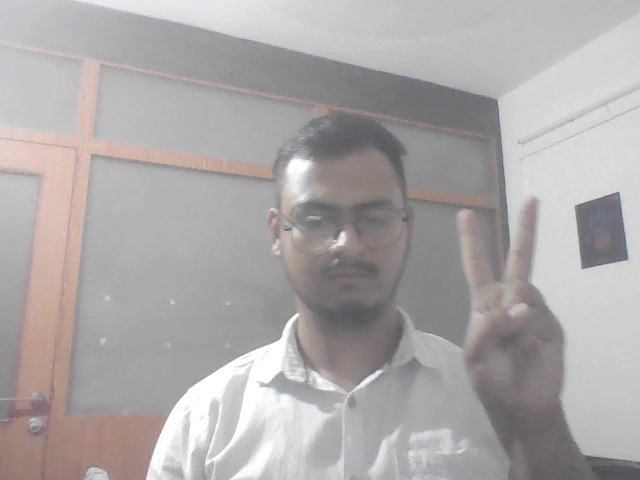Peace: (448, 189, 569, 424)
